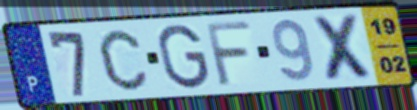7: (45, 29, 88, 99)
9: (269, 16, 317, 85)
C: (96, 27, 150, 93)
F: (203, 19, 254, 89)
G: (155, 22, 212, 91)
X: (309, 12, 379, 83)
